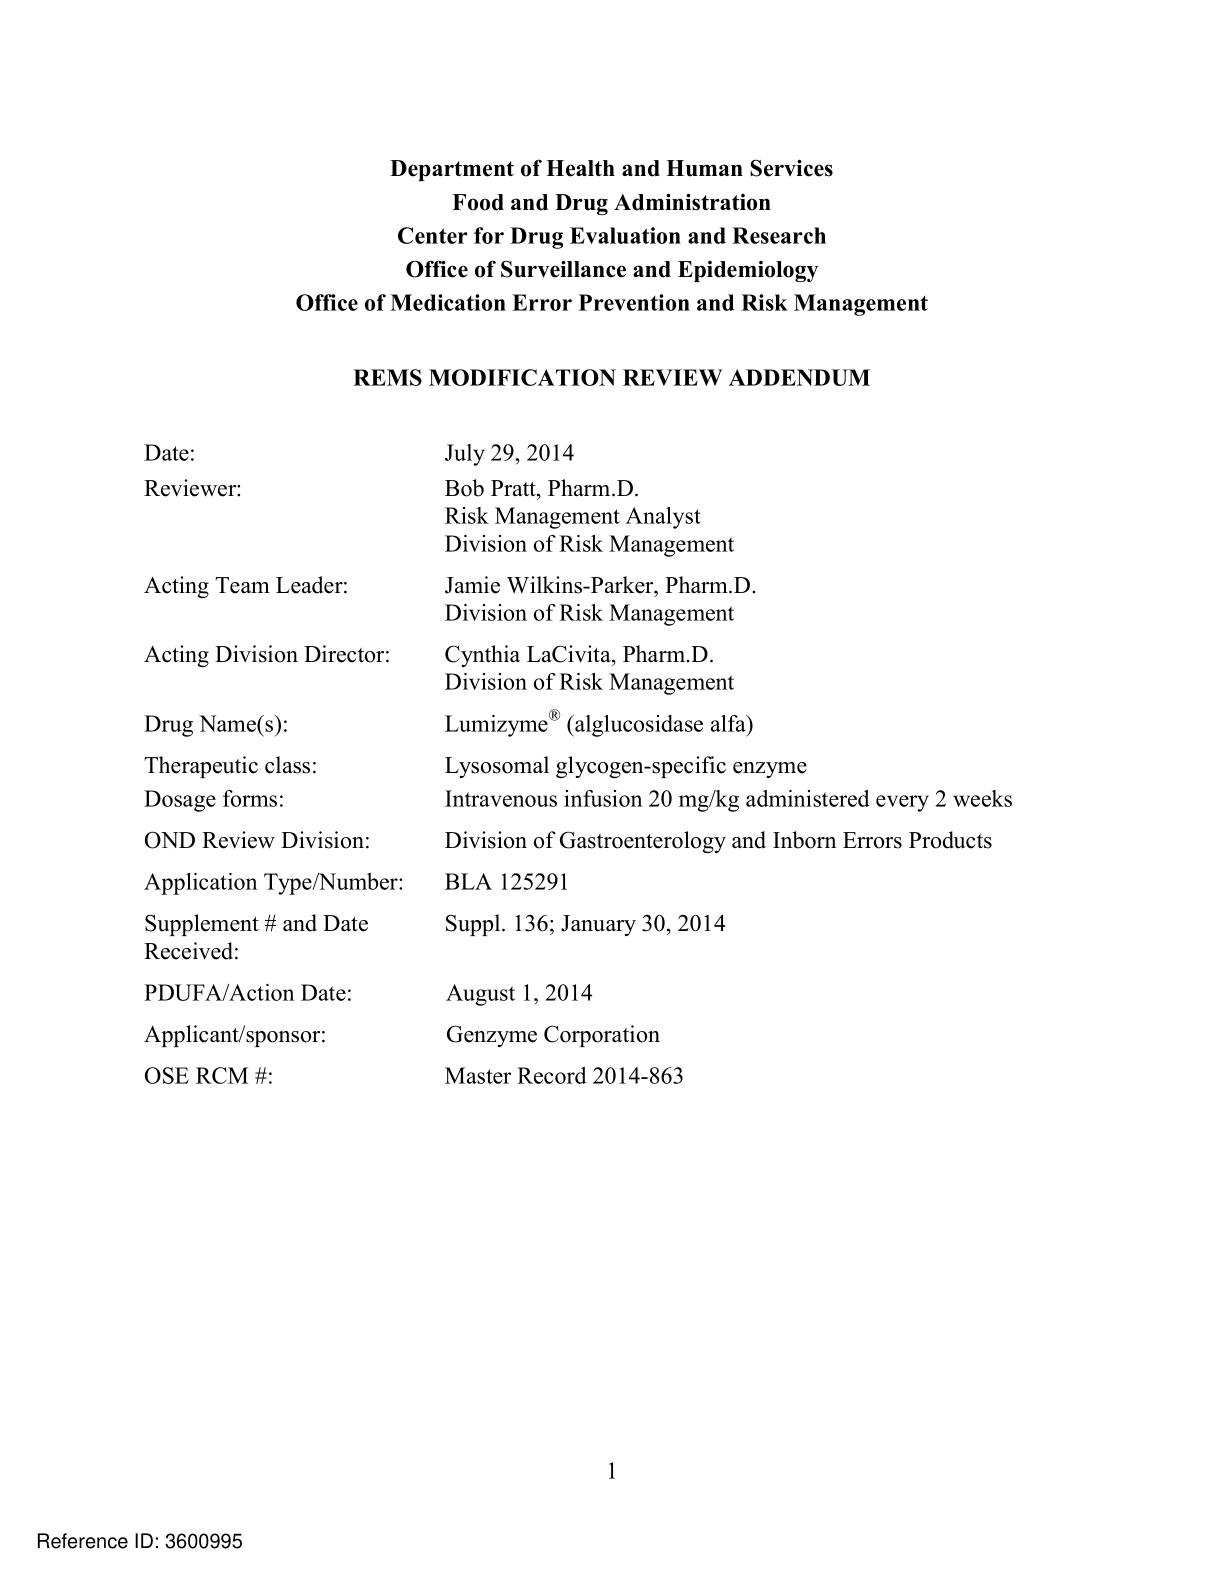nolines: (141, 437, 1014, 1088)
